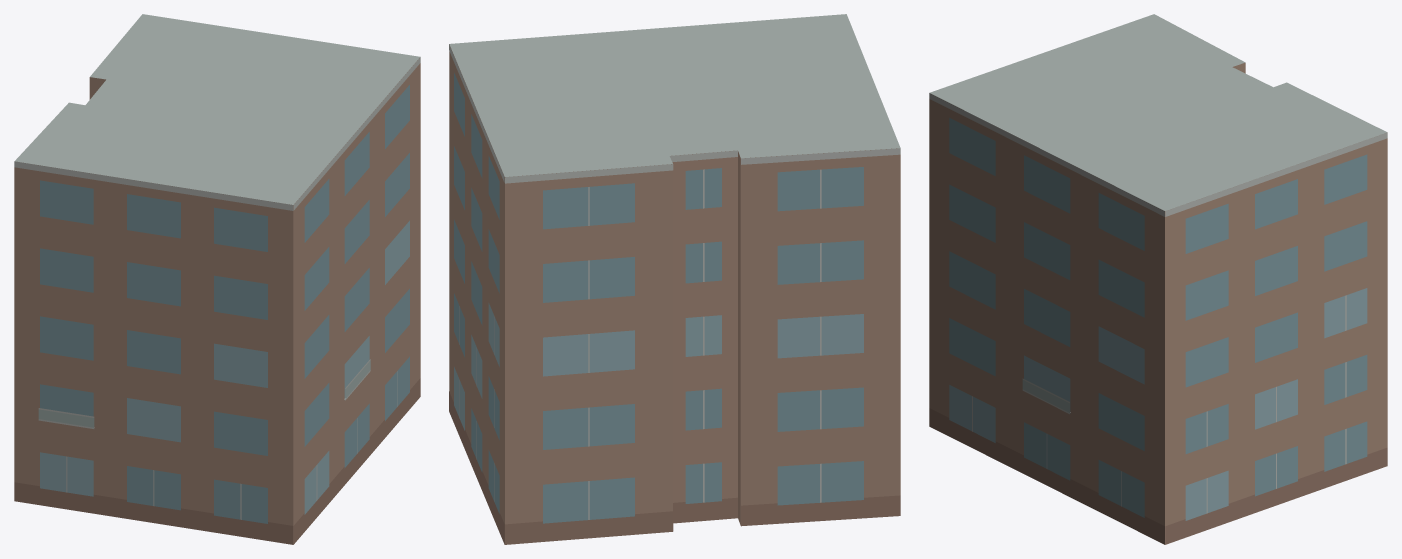
The model's file is survey-upis-32945972.glb.
The picture shows the model from 3 angles, left to right: view 1: azimuth 30°, elevation 25°; view 2: azimuth 150°, elevation 25°; view 3: azimuth 270°, elevation 25°; orthographic projection. The views are drawn at different scales.
Visible parts, largest first — view 1: survey-upis-32945972.tmp; view 2: survey-upis-32945972.tmp; view 3: survey-upis-32945972.tmp.
Part boxes in pixels (x1,y1,x2,y2): survey-upis-32945972.tmp: (14, 14, 420, 544); survey-upis-32945972.tmp: (449, 14, 900, 544); survey-upis-32945972.tmp: (929, 14, 1387, 544).
Bounding box in the file's own units: 17.5 × 13.8 × 17.19.
